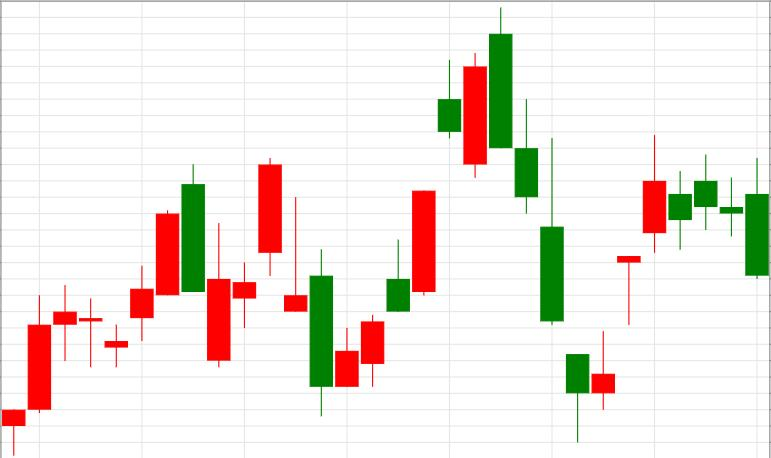hammer_rise: (489, 7, 589, 442)
shooting_star_fall: (335, 59, 461, 387)
